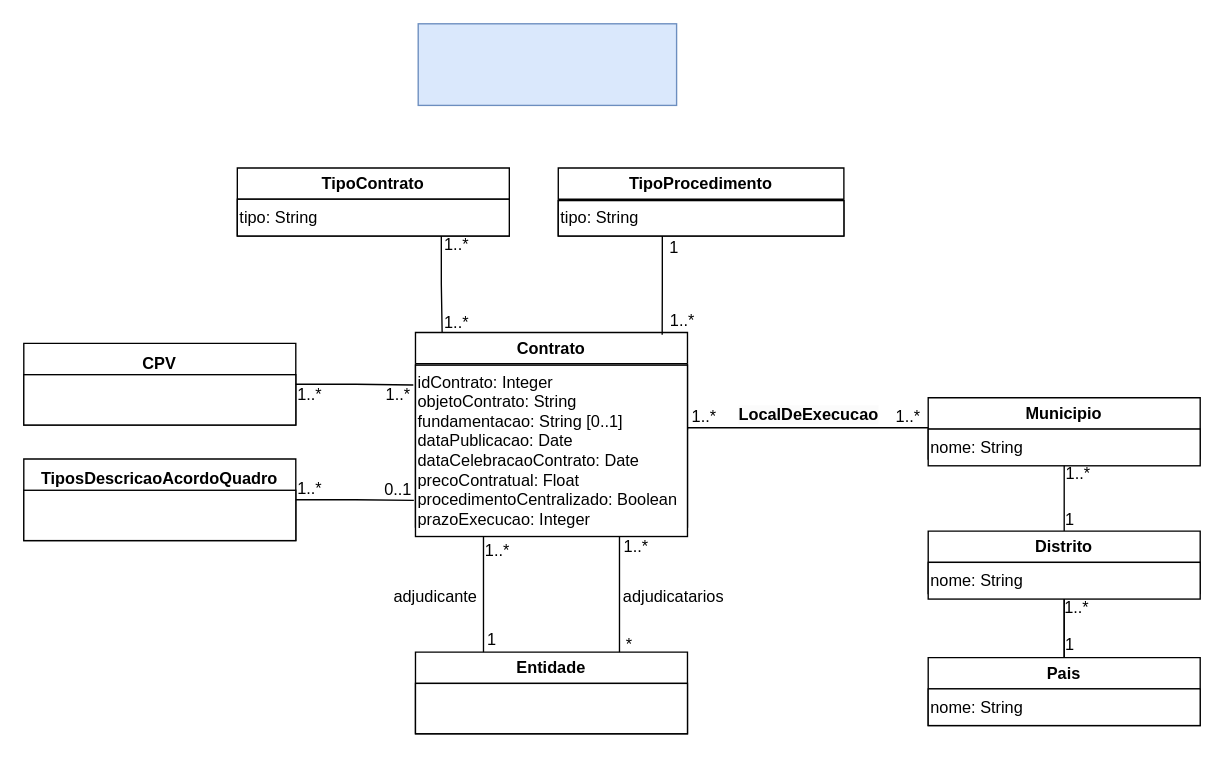
The diagram is 1224 pixels wide and 758 high, and some of its shapes have lost their labels. The shapes that lost their labels are listed below. From the top down, each one's centre as x and y in pixels, then its label:
At [547,63]: "Diagrama UML Contratos públicos".
At [159,399]: "codigo: String descricao: String".
At [159,515]: "identificador: String [0..1] descricao: String".
At [550,708]: "nif: Integer designacao: String".
